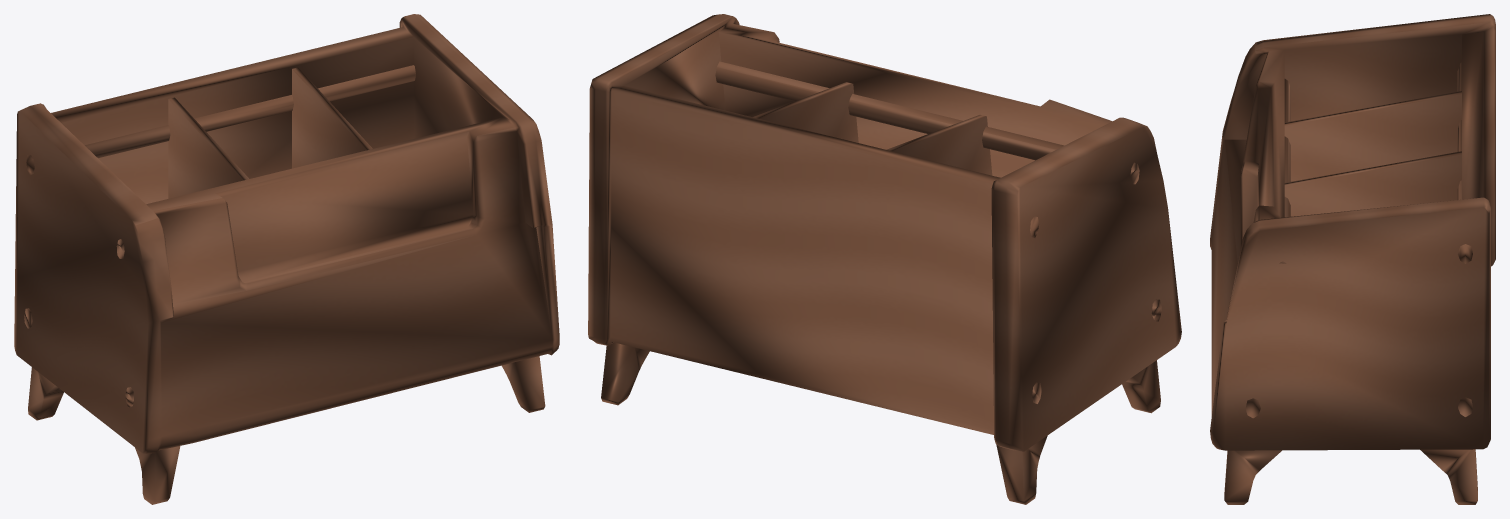
The model's file is P04_atlas_v1.glb.
3 renders of one model, left to right at view 1: azimuth 30°, elevation 25°; view 2: azimuth 150°, elevation 25°; view 3: azimuth 270°, elevation 25°, orthographic. The views are drawn at different scales.
Parts seen in each view (by area): view 1: P04_Geometry; view 2: P04_Geometry; view 3: P04_Geometry.
Part boxes in pixels (x1=…): P04_Geometry: x1=14, y1=14, x2=559, y2=504; P04_Geometry: x1=588, y1=14, x2=1181, y2=504; P04_Geometry: x1=1210, y1=14, x2=1495, y2=504.
Size of the model in its own units: 5 by 3.5 by 3.
1 material, 1 textured.
